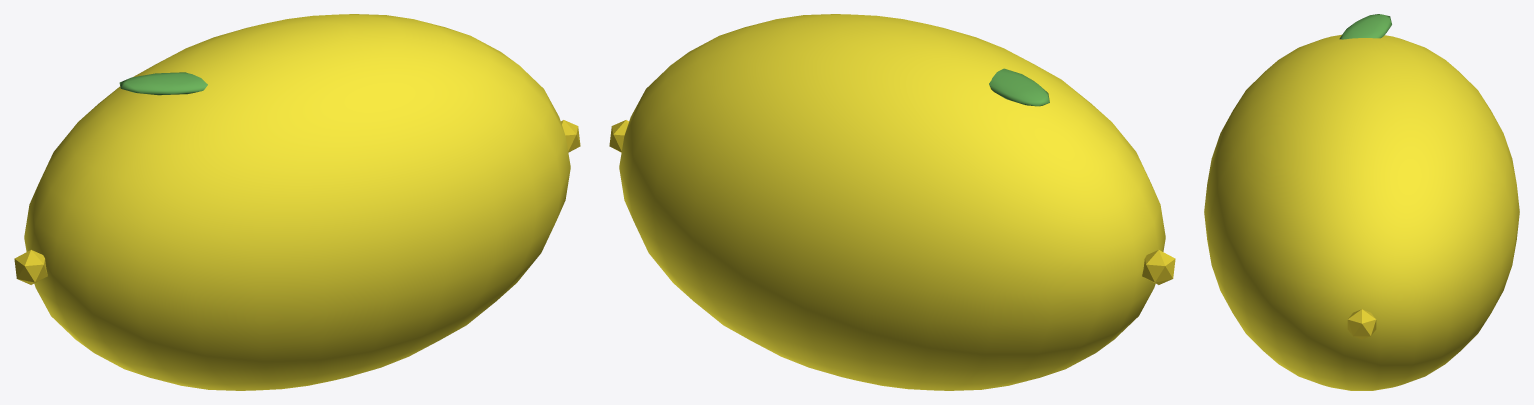
Rendered from lemon.glb.
3 renders of one model, left to right at view 1: azimuth 30°, elevation 25°; view 2: azimuth 150°, elevation 25°; view 3: azimuth 270°, elevation 25°, orthographic. The views are drawn at different scales.
Visible parts, largest first — view 1: lemon; view 2: lemon; view 3: lemon.
Boxes of the visible parts, left/top/right/bottom form: lemon: left=14, top=14, right=580, bottom=390; lemon: left=609, top=14, right=1175, bottom=390; lemon: left=1204, top=14, right=1519, bottom=390.
Size of the model in its own units: 1 by 0.5631 by 0.5631.
